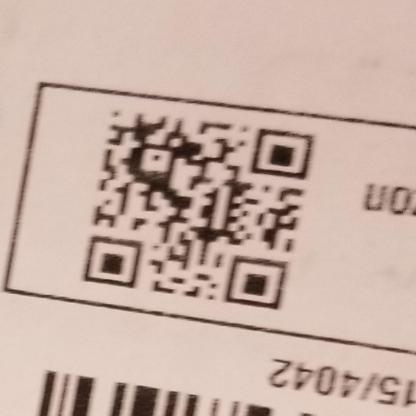barcode: (23, 360, 327, 416)
qr: (76, 102, 320, 321)
